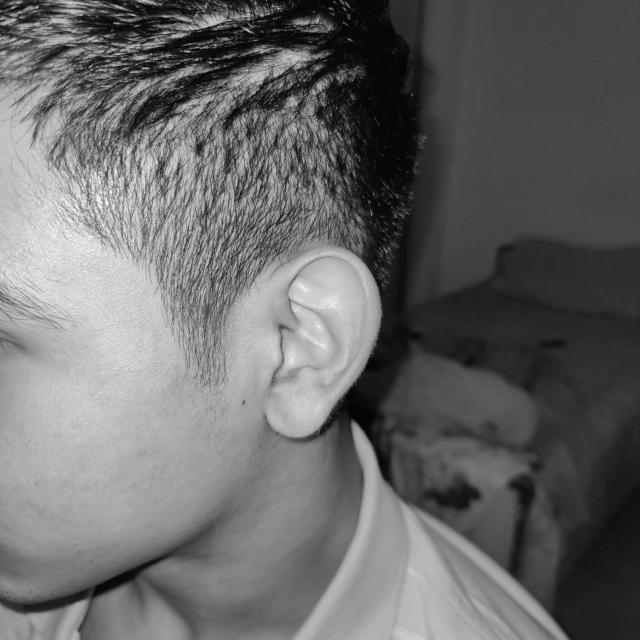ear: (264, 247, 380, 438)
